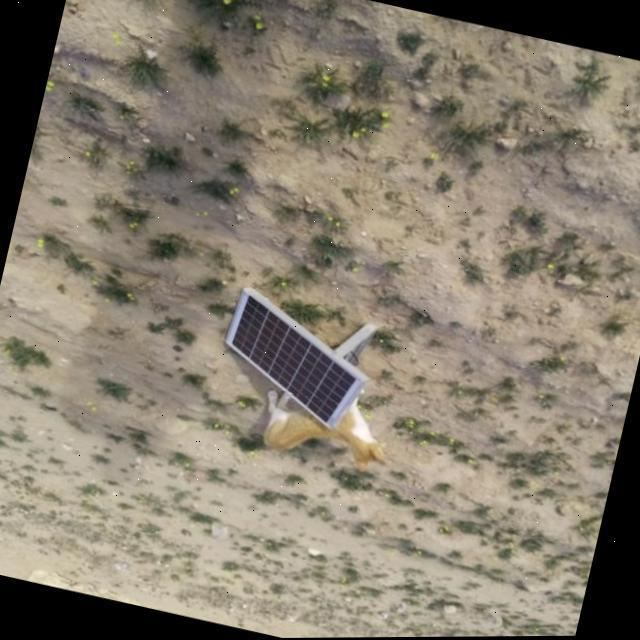Normal Solar Panel: (211, 288, 375, 434)
